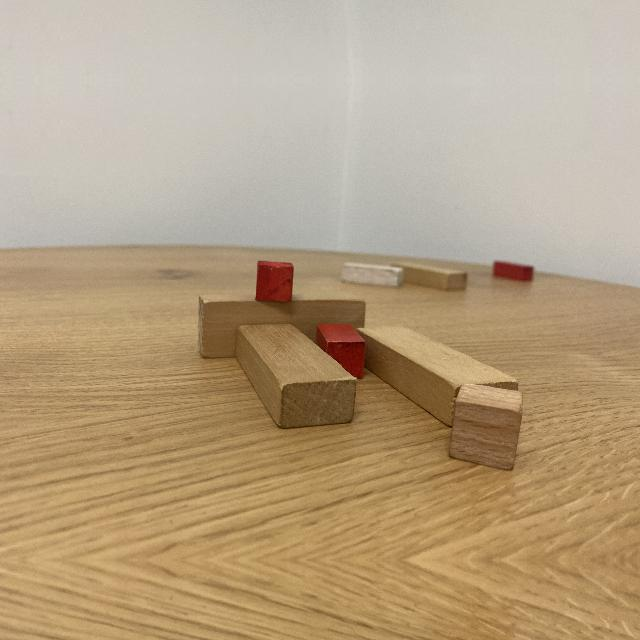block: (339, 263, 403, 289)
cube: (449, 385, 525, 471)
jenga: (356, 325, 518, 428), (235, 324, 357, 430), (198, 294, 366, 357), (390, 260, 468, 291)
red block: (316, 324, 366, 379), (491, 260, 535, 284)
red cube: (256, 262, 294, 302)
